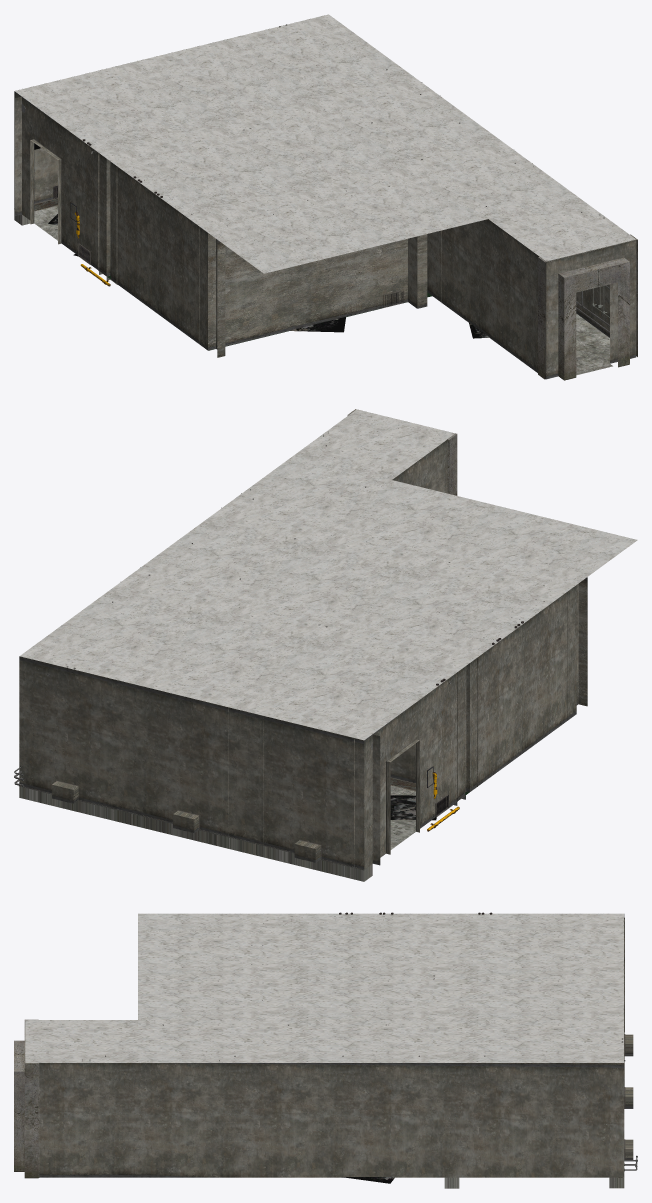
3 views of the same model, one above another, from view 1: azimuth 30°, elevation 25°; view 2: azimuth 150°, elevation 25°; view 3: azimuth 270°, elevation 25° (orthographic). The views are drawn at different scales.
Visible parts, largest first — view 1: LOD_1_Group_0_Sub_4__st3_policeUndergroundCeiling05, LOD_1_Group_0_Sub_1__st2_police1fLeftWall02, LOD_1_Group_0_Sub_10__st3_policeUndergroundWall03, LOD_1_Group_0_Sub_2__st3_policeUndergroundFloor06, LOD_1_Group_0_Sub_16__st2_police1fRightDirt02__Env_Decal; view 2: LOD_1_Group_0_Sub_4__st3_policeUndergroundCeiling05, LOD_1_Group_0_Sub_1__st2_police1fLeftWall02, LOD_1_Group_0_Sub_2__st3_policeUndergroundFloor06, LOD_1_Group_0_Sub_14__st3_policeUndergroundSteelrail01__4225, LOD_1_Group_0_Sub_10__st3_policeUndergroundWall03, LOD_1_Group_0_Sub_16__st2_police1fRightDirt02__Env_Decal; view 3: LOD_1_Group_0_Sub_4__st3_policeUndergroundCeiling05, LOD_1_Group_0_Sub_1__st2_police1fLeftWall02, LOD_1_Group_0_Sub_10__st3_policeUndergroundWall03.
Part boxes in pixels (x1,y1,x2,y2): LOD_1_Group_0_Sub_4__st3_policeUndergroundCeiling05: (14, 14, 635, 273); LOD_1_Group_0_Sub_1__st2_police1fLeftWall02: (14, 82, 636, 379); LOD_1_Group_0_Sub_10__st3_policeUndergroundWall03: (538, 234, 637, 380); LOD_1_Group_0_Sub_2__st3_policeUndergroundFloor06: (14, 206, 612, 375); LOD_1_Group_0_Sub_16__st2_police1fRightDirt02__Env_Decal: (34, 143, 489, 338); LOD_1_Group_0_Sub_4__st3_policeUndergroundCeiling05: (20, 409, 637, 740); LOD_1_Group_0_Sub_1__st2_police1fLeftWall02: (19, 434, 587, 869); LOD_1_Group_0_Sub_2__st3_policeUndergroundFloor06: (19, 785, 452, 881); LOD_1_Group_0_Sub_14__st3_policeUndergroundSteelrail01__4225: (19, 777, 465, 870); LOD_1_Group_0_Sub_10__st3_policeUndergroundWall03: (347, 409, 457, 495); LOD_1_Group_0_Sub_16__st2_police1fRightDirt02__Env_Decal: (390, 795, 436, 820); LOD_1_Group_0_Sub_4__st3_policeUndergroundCeiling05: (25, 913, 623, 1062); LOD_1_Group_0_Sub_1__st2_police1fLeftWall02: (39, 914, 633, 1177); LOD_1_Group_0_Sub_10__st3_policeUndergroundWall03: (14, 1019, 39, 1178).
Size of the model in its own units: 8.94 by 3.4 by 14.78.
